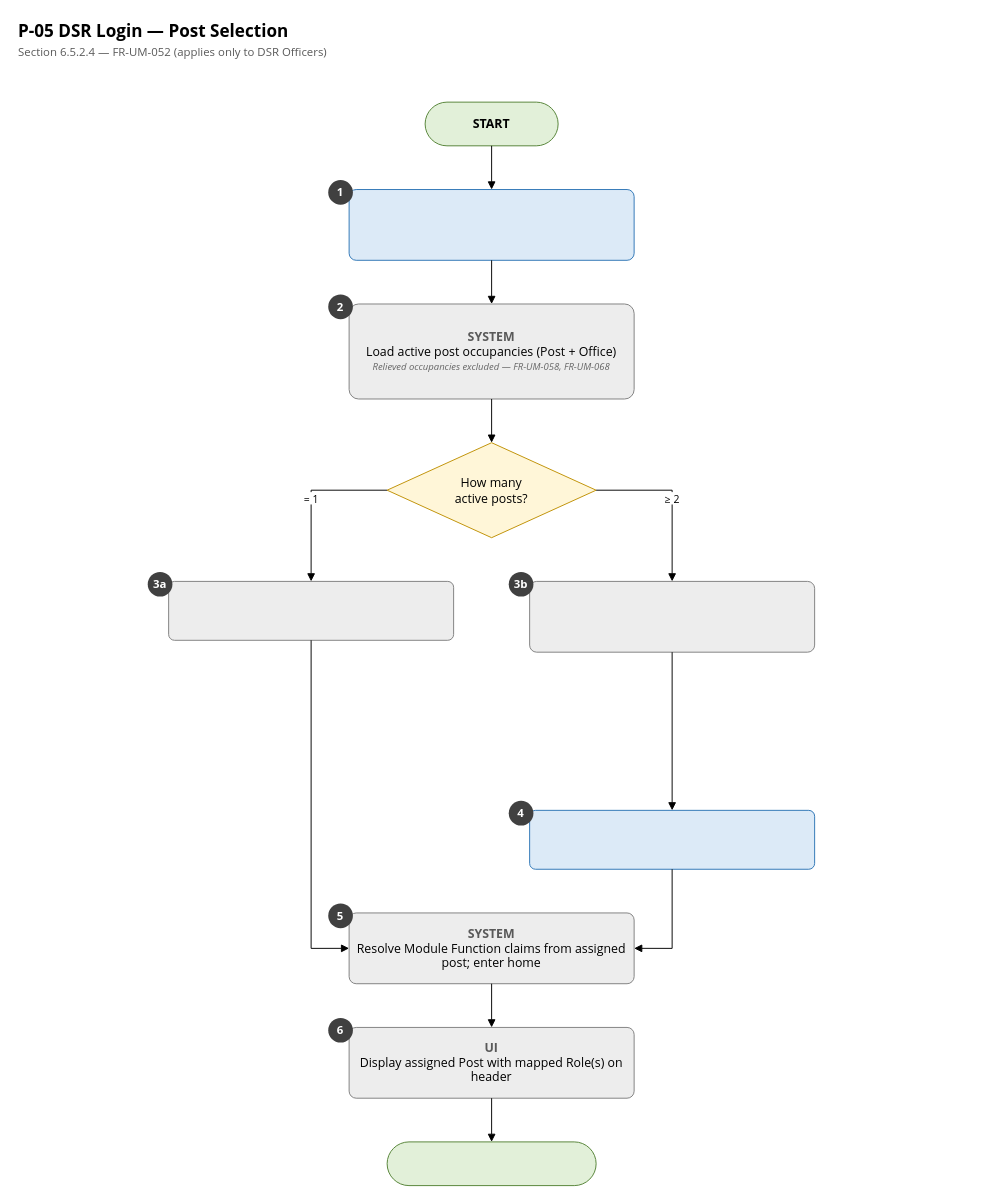
Some shapes in this 982 by 1202 pixel diagram are drawn without their labels. The shapes that lost their labels are listed below. From the top down, each one's centre as x and y in pixels, then its label:
At point (491, 224): "DSR OFFICER Authenticate: Username (KGID) + Captcha + Face/Biometric (no OTP)".
At point (311, 610): "SYSTEM Auto-select the single post — no selection UI".
At point (672, 616): "SYSTEM Show post-selection list (mandatory, cannot skip)".
At point (672, 839): "DSR OFFICER Select exactly one assigned post and confirm".
At point (491, 1163): "HOME LOADED".
